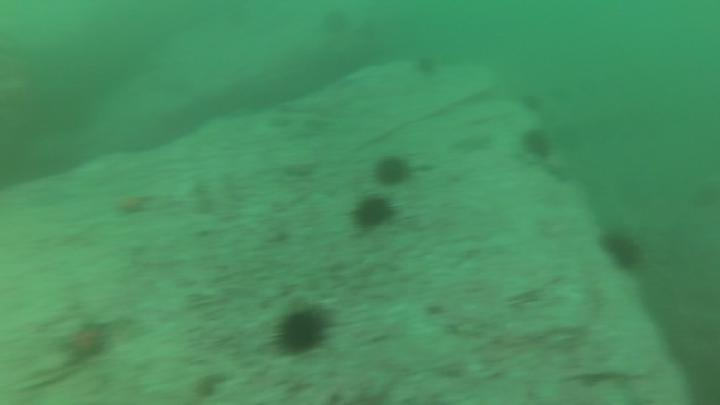echinus: (271, 304, 332, 360), (348, 192, 398, 234), (599, 229, 644, 274), (521, 124, 559, 164), (370, 155, 413, 190), (320, 7, 348, 37), (411, 53, 441, 77), (515, 92, 545, 114)
starfish: (53, 316, 120, 372), (113, 192, 155, 219)
